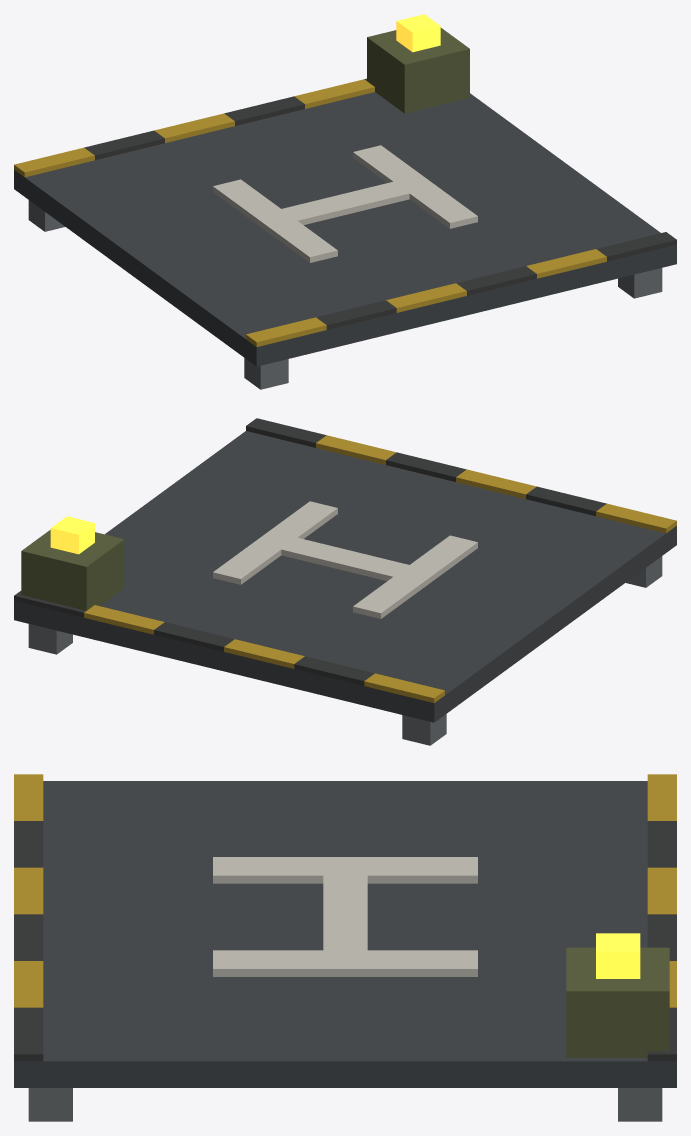
The model's file is upg_drone_pad.glb.
3 views of the same model, one above another, from view 1: azimuth 30°, elevation 25°; view 2: azimuth 150°, elevation 25°; view 3: azimuth 270°, elevation 25° (orthographic). The views are drawn at different scales.
Parts seen in each view (by area): view 1: drone_pad; view 2: drone_pad; view 3: drone_pad.
Boxes of the visible parts, box(x1,y1,x2,y2) form: drone_pad: box(14, 14, 676, 389); drone_pad: box(14, 418, 676, 745); drone_pad: box(14, 774, 676, 1121).
Size of the model in its own units: 0.9 by 0.24 by 0.9.
